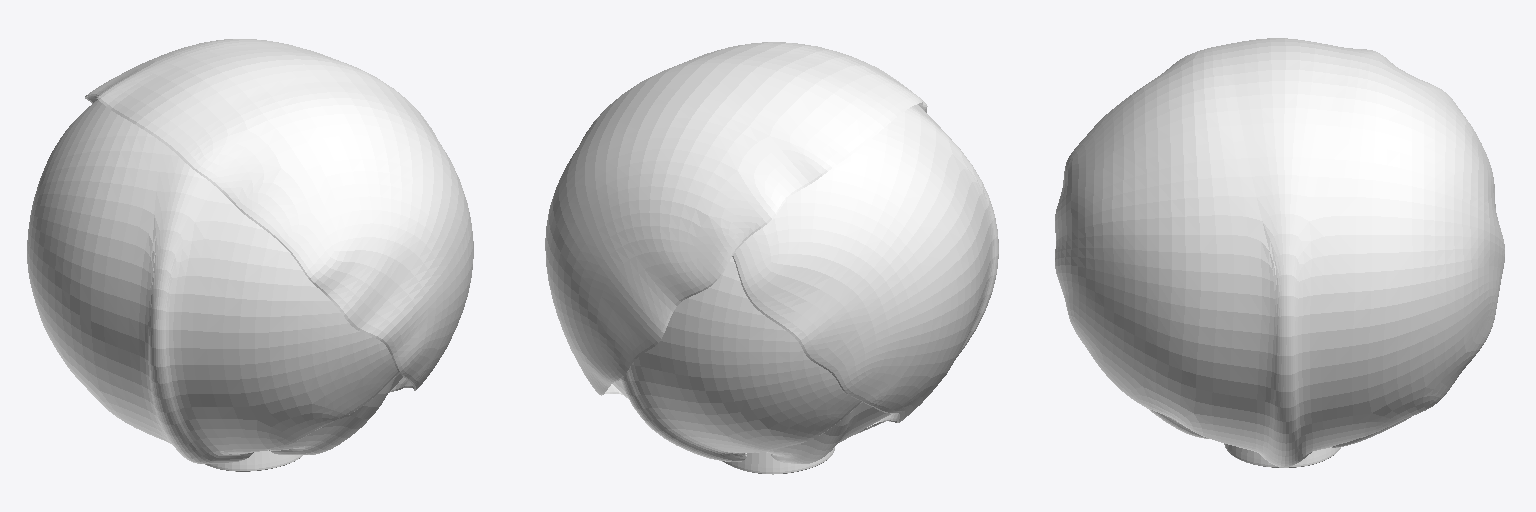
The model's file is 12209_Vegetable_v1_L3.obj.
3 views of the same model, side by side, from view 1: azimuth 30°, elevation 25°; view 2: azimuth 150°, elevation 25°; view 3: azimuth 270°, elevation 25° (orthographic).
Parts seen in each view (by area): view 1: 12209_Vegetable_v1_L3; view 2: 12209_Vegetable_v1_L3; view 3: 12209_Vegetable_v1_L3.
Part boxes in pixels (x1,y1,x2,y2): 12209_Vegetable_v1_L3: (27,39,473,471); 12209_Vegetable_v1_L3: (545,42,998,474); 12209_Vegetable_v1_L3: (1055,38,1504,467).
Bounding box in the file's own units: 19.36 × 17.98 × 19.31.